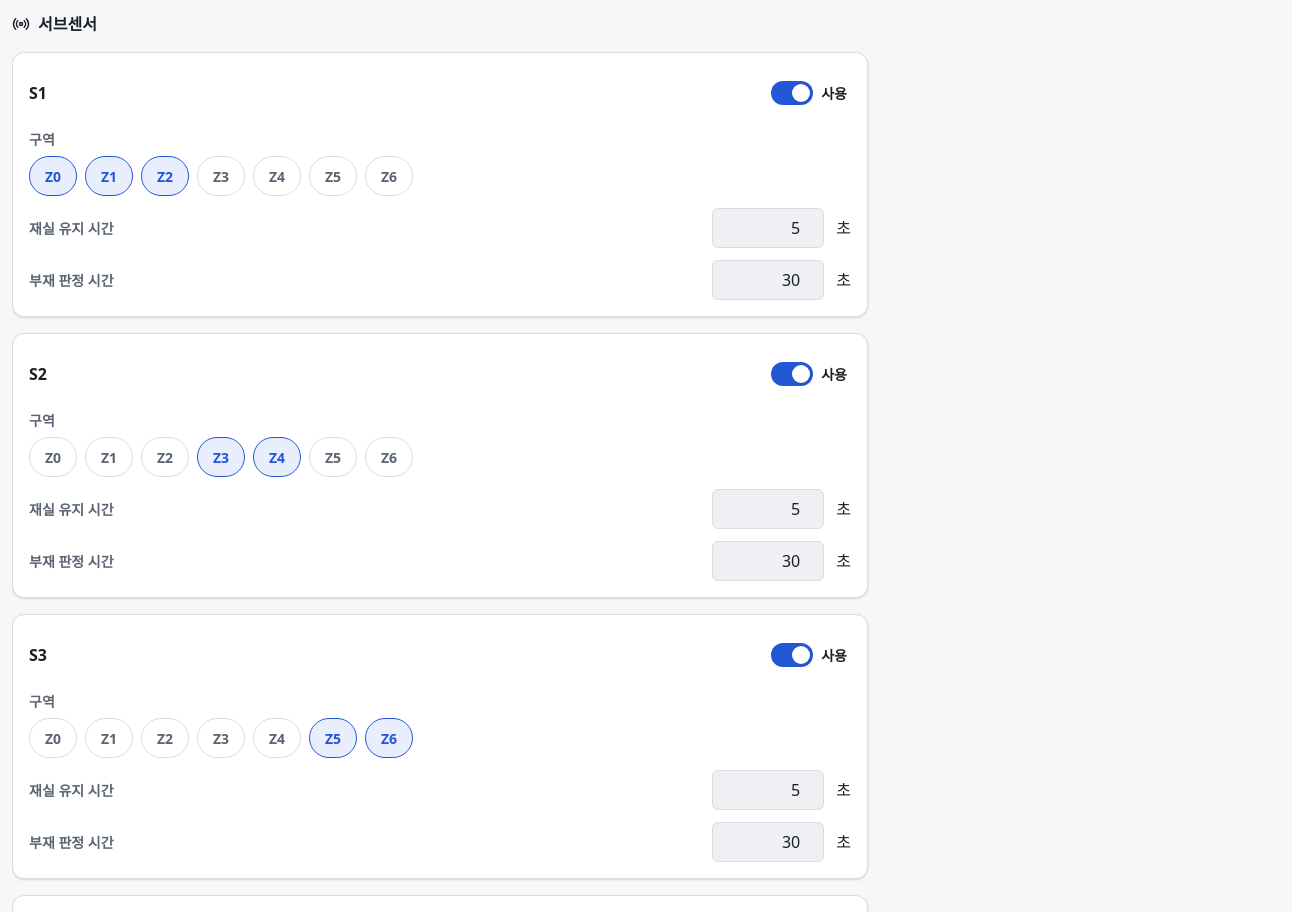
Test: AdvancedTab › zone chips edit the sorted draft; no zone on an enabled sub-sensor warns
Click the button "Z1" below "S1".
click(109, 176)  # box left=85, top=156, right=133, bottom=196
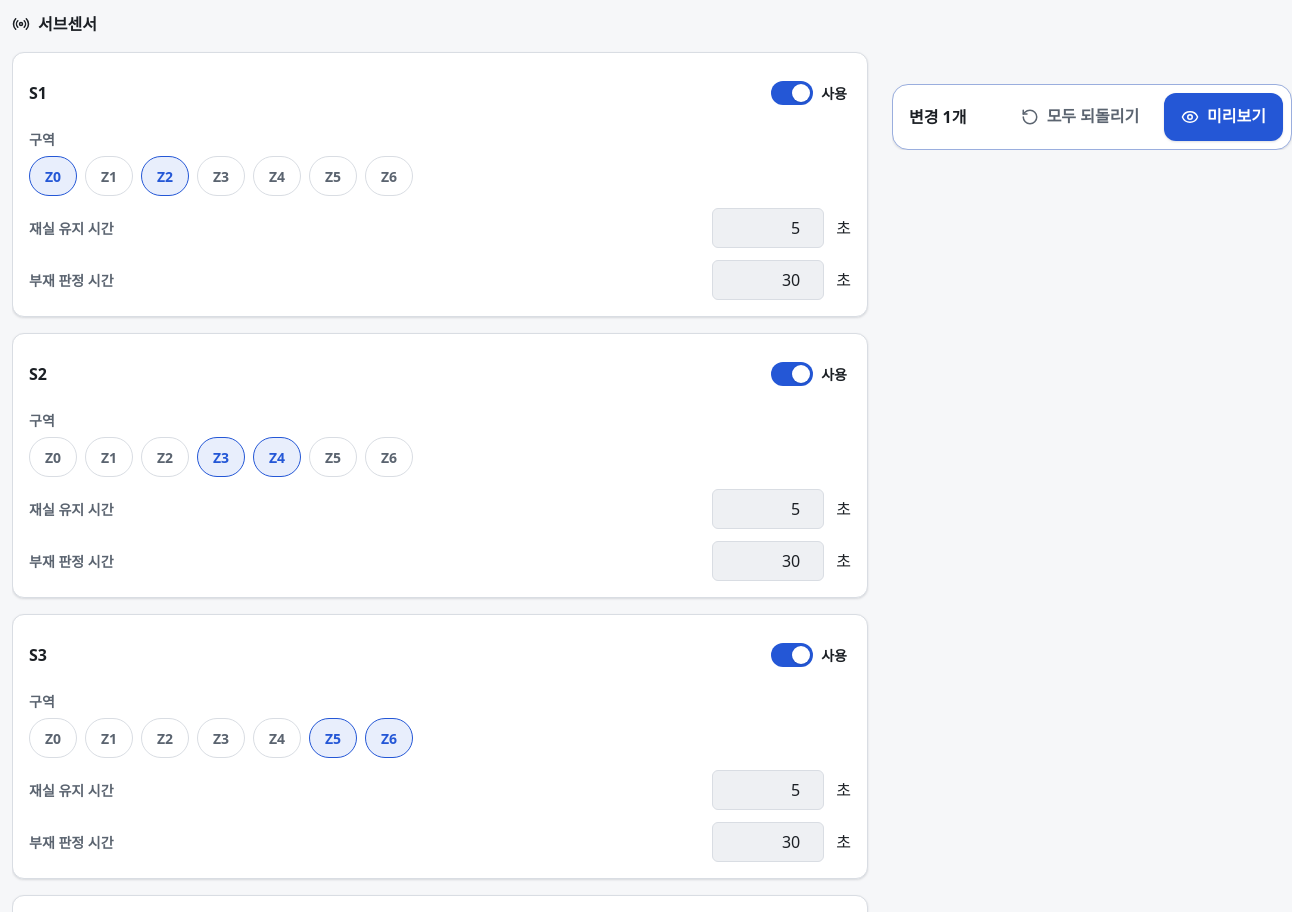
Expected: the button "Z1" below "S1" is not pressed, left=85, top=156, right=133, bottom=196
Click the button "Z4" below "S1".
click(277, 176)  # box left=253, top=156, right=301, bottom=196
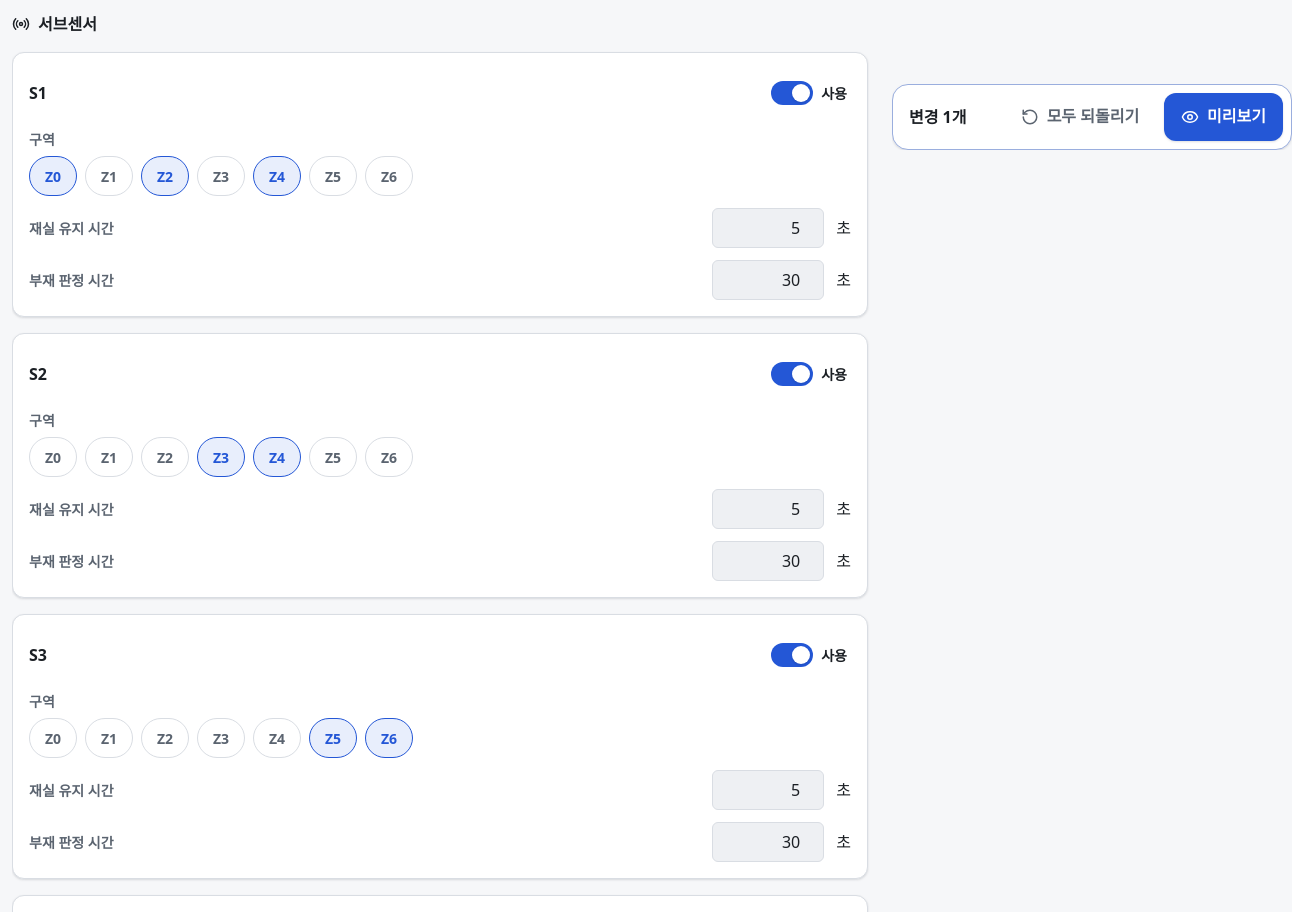
Click the button "Z0" below "S1".
click(53, 176)  # box left=29, top=156, right=77, bottom=196
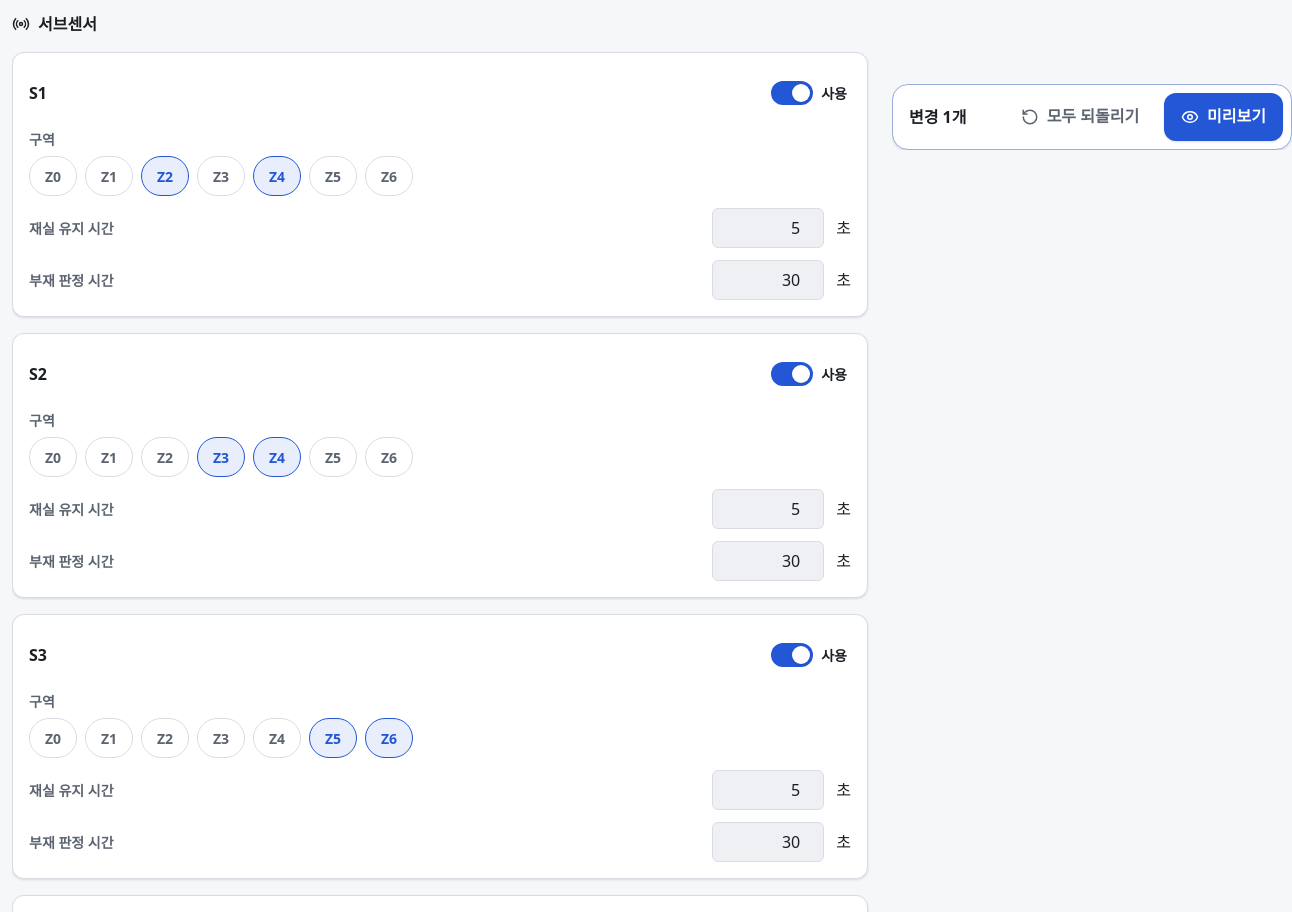
Click the button "Z2" below "S1".
click(165, 176)  # box left=141, top=156, right=189, bottom=196
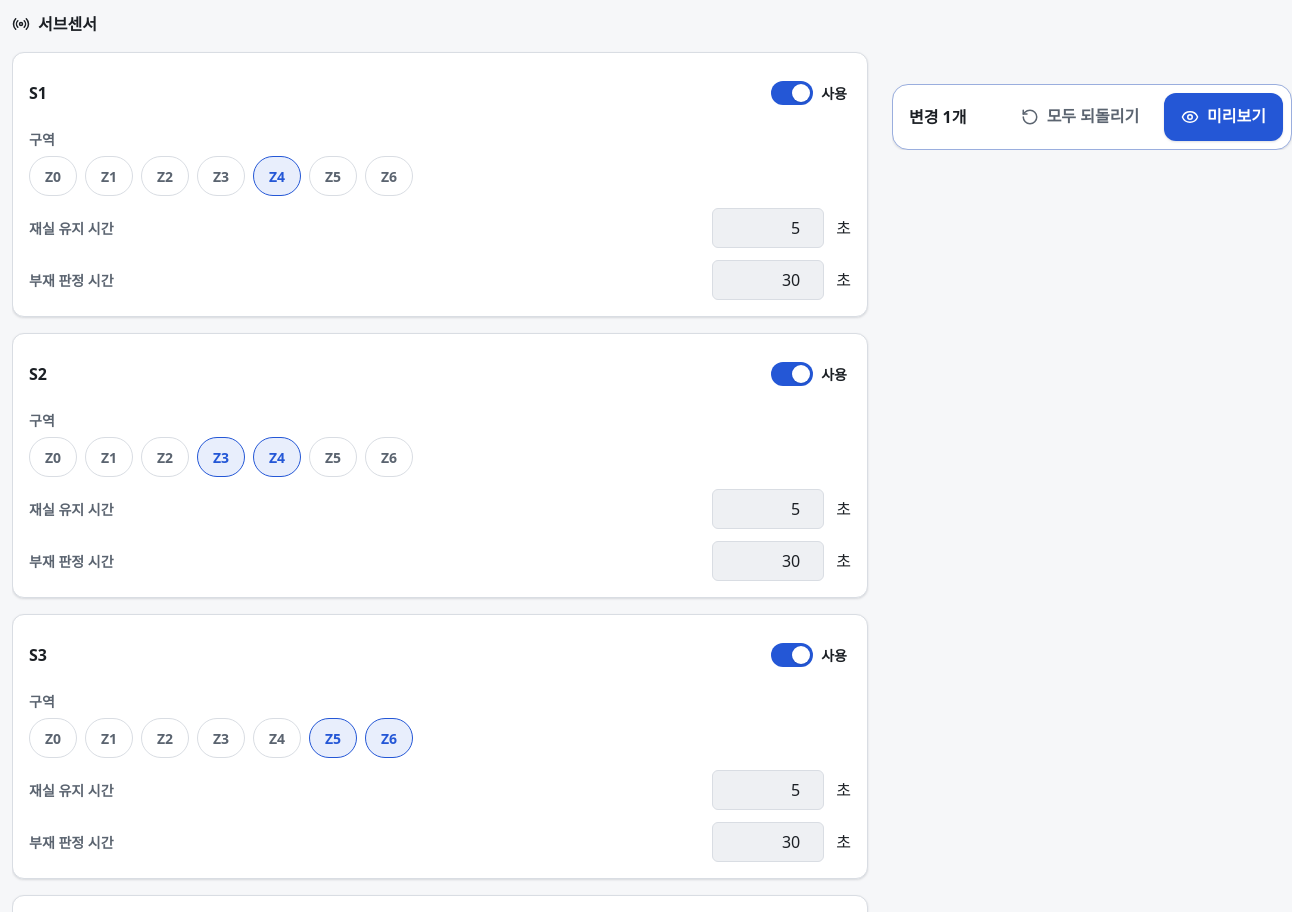
Click the button "Z4" below "S1".
click(277, 176)  # box left=253, top=156, right=301, bottom=196
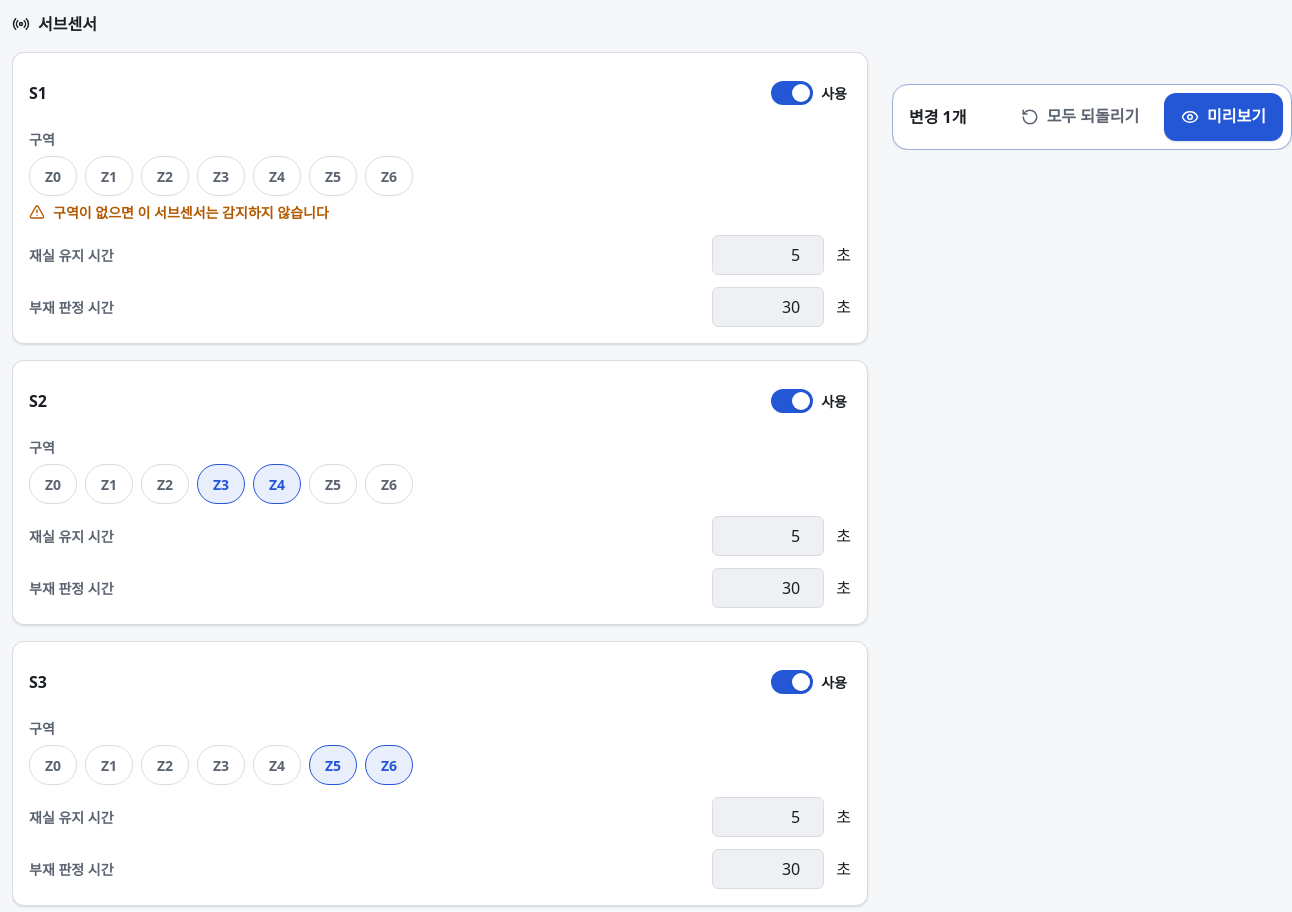
Expected: the text "변경 1개" is shown, left=909, top=105, right=966, bottom=129
Expected: the text "구역이 없으면 이 서브센서는 감지하지 않습니다" is shown, left=29, top=203, right=329, bottom=222
